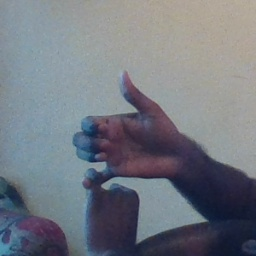S: (54, 68, 189, 229)
